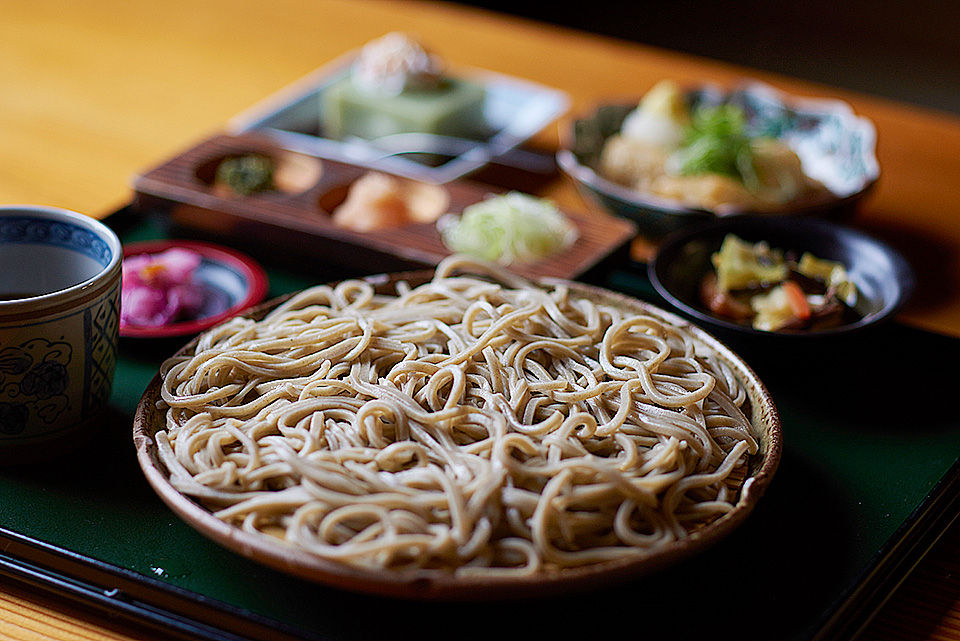Soba: (148, 272, 767, 562)
